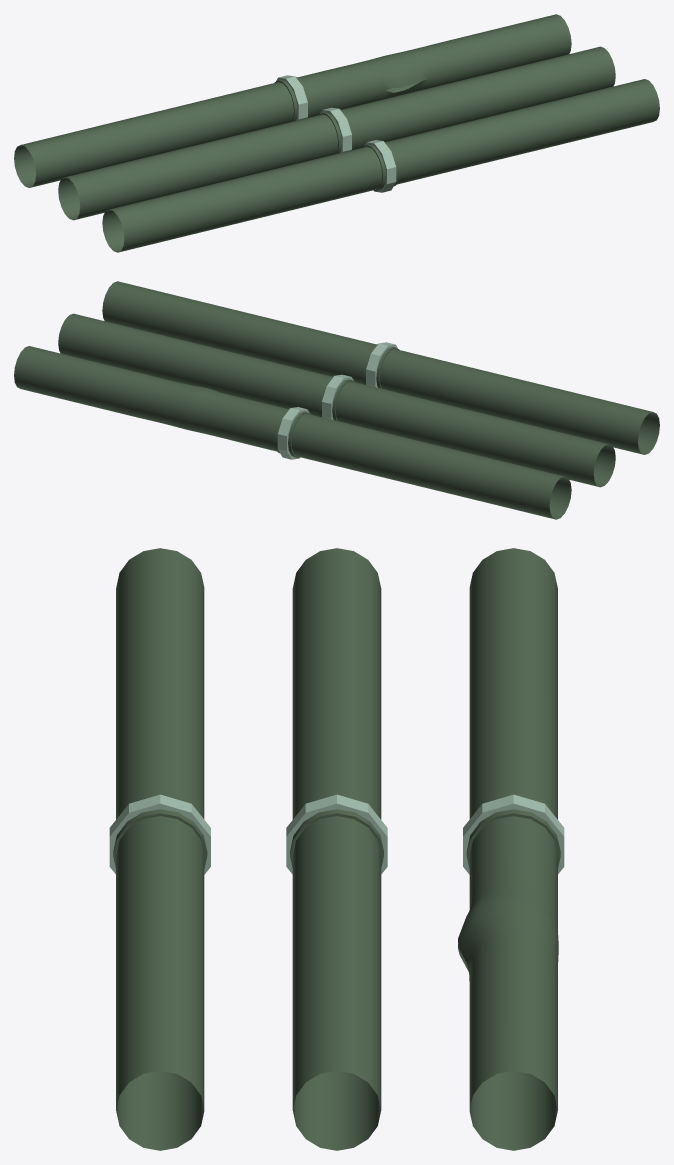
The model's file is PipeComplexLarge_A1_02.fbx.
3 views of the same model, one above another, from view 1: azimuth 30°, elevation 25°; view 2: azimuth 150°, elevation 25°; view 3: azimuth 270°, elevation 25° (orthographic). The views are drawn at different scales.
Visible parts, largest first — view 1: PipeComplexLarge_A1_02.001; view 2: PipeComplexLarge_A1_02.001; view 3: PipeComplexLarge_A1_02.001.
Part boxes in pixels (x1,y1,x2,y2): PipeComplexLarge_A1_02.001: (14,14,659,252); PipeComplexLarge_A1_02.001: (14,281,659,519); PipeComplexLarge_A1_02.001: (109,548,564,1150).
Bounding box in the file's own units: 2.8 × 0.2411 × 1.03.
